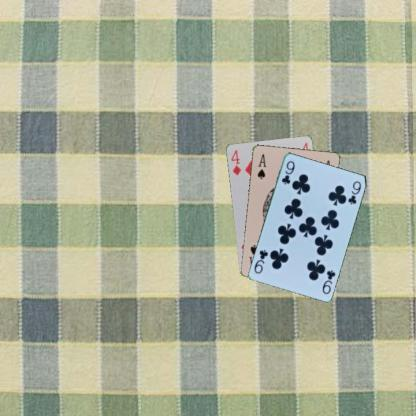4d: (228, 148, 242, 176)
9c: (279, 158, 296, 185), (320, 267, 336, 295)
As: (255, 151, 267, 180)
